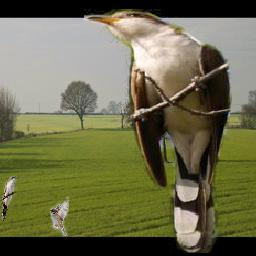Cuckoo: (84, 9, 232, 253), (1, 177, 18, 222)
Sparrow: (51, 196, 70, 236)
